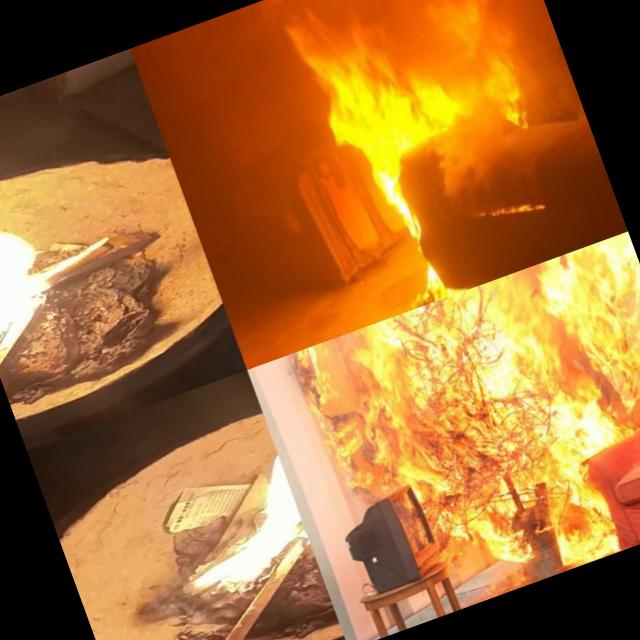fire: (285, 268, 625, 634), (145, 451, 319, 616), (523, 231, 640, 445), (304, 12, 456, 164), (363, 146, 448, 305), (0, 123, 57, 339), (474, 188, 548, 239), (492, 62, 540, 134), (444, 70, 504, 125)
smoke: (424, 108, 526, 202), (409, 0, 521, 81)
